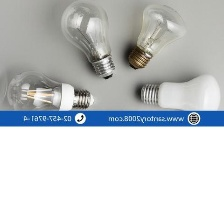light_bulb: (56, 0, 119, 83), (2, 65, 96, 119), (124, 0, 189, 74), (132, 71, 224, 122)
